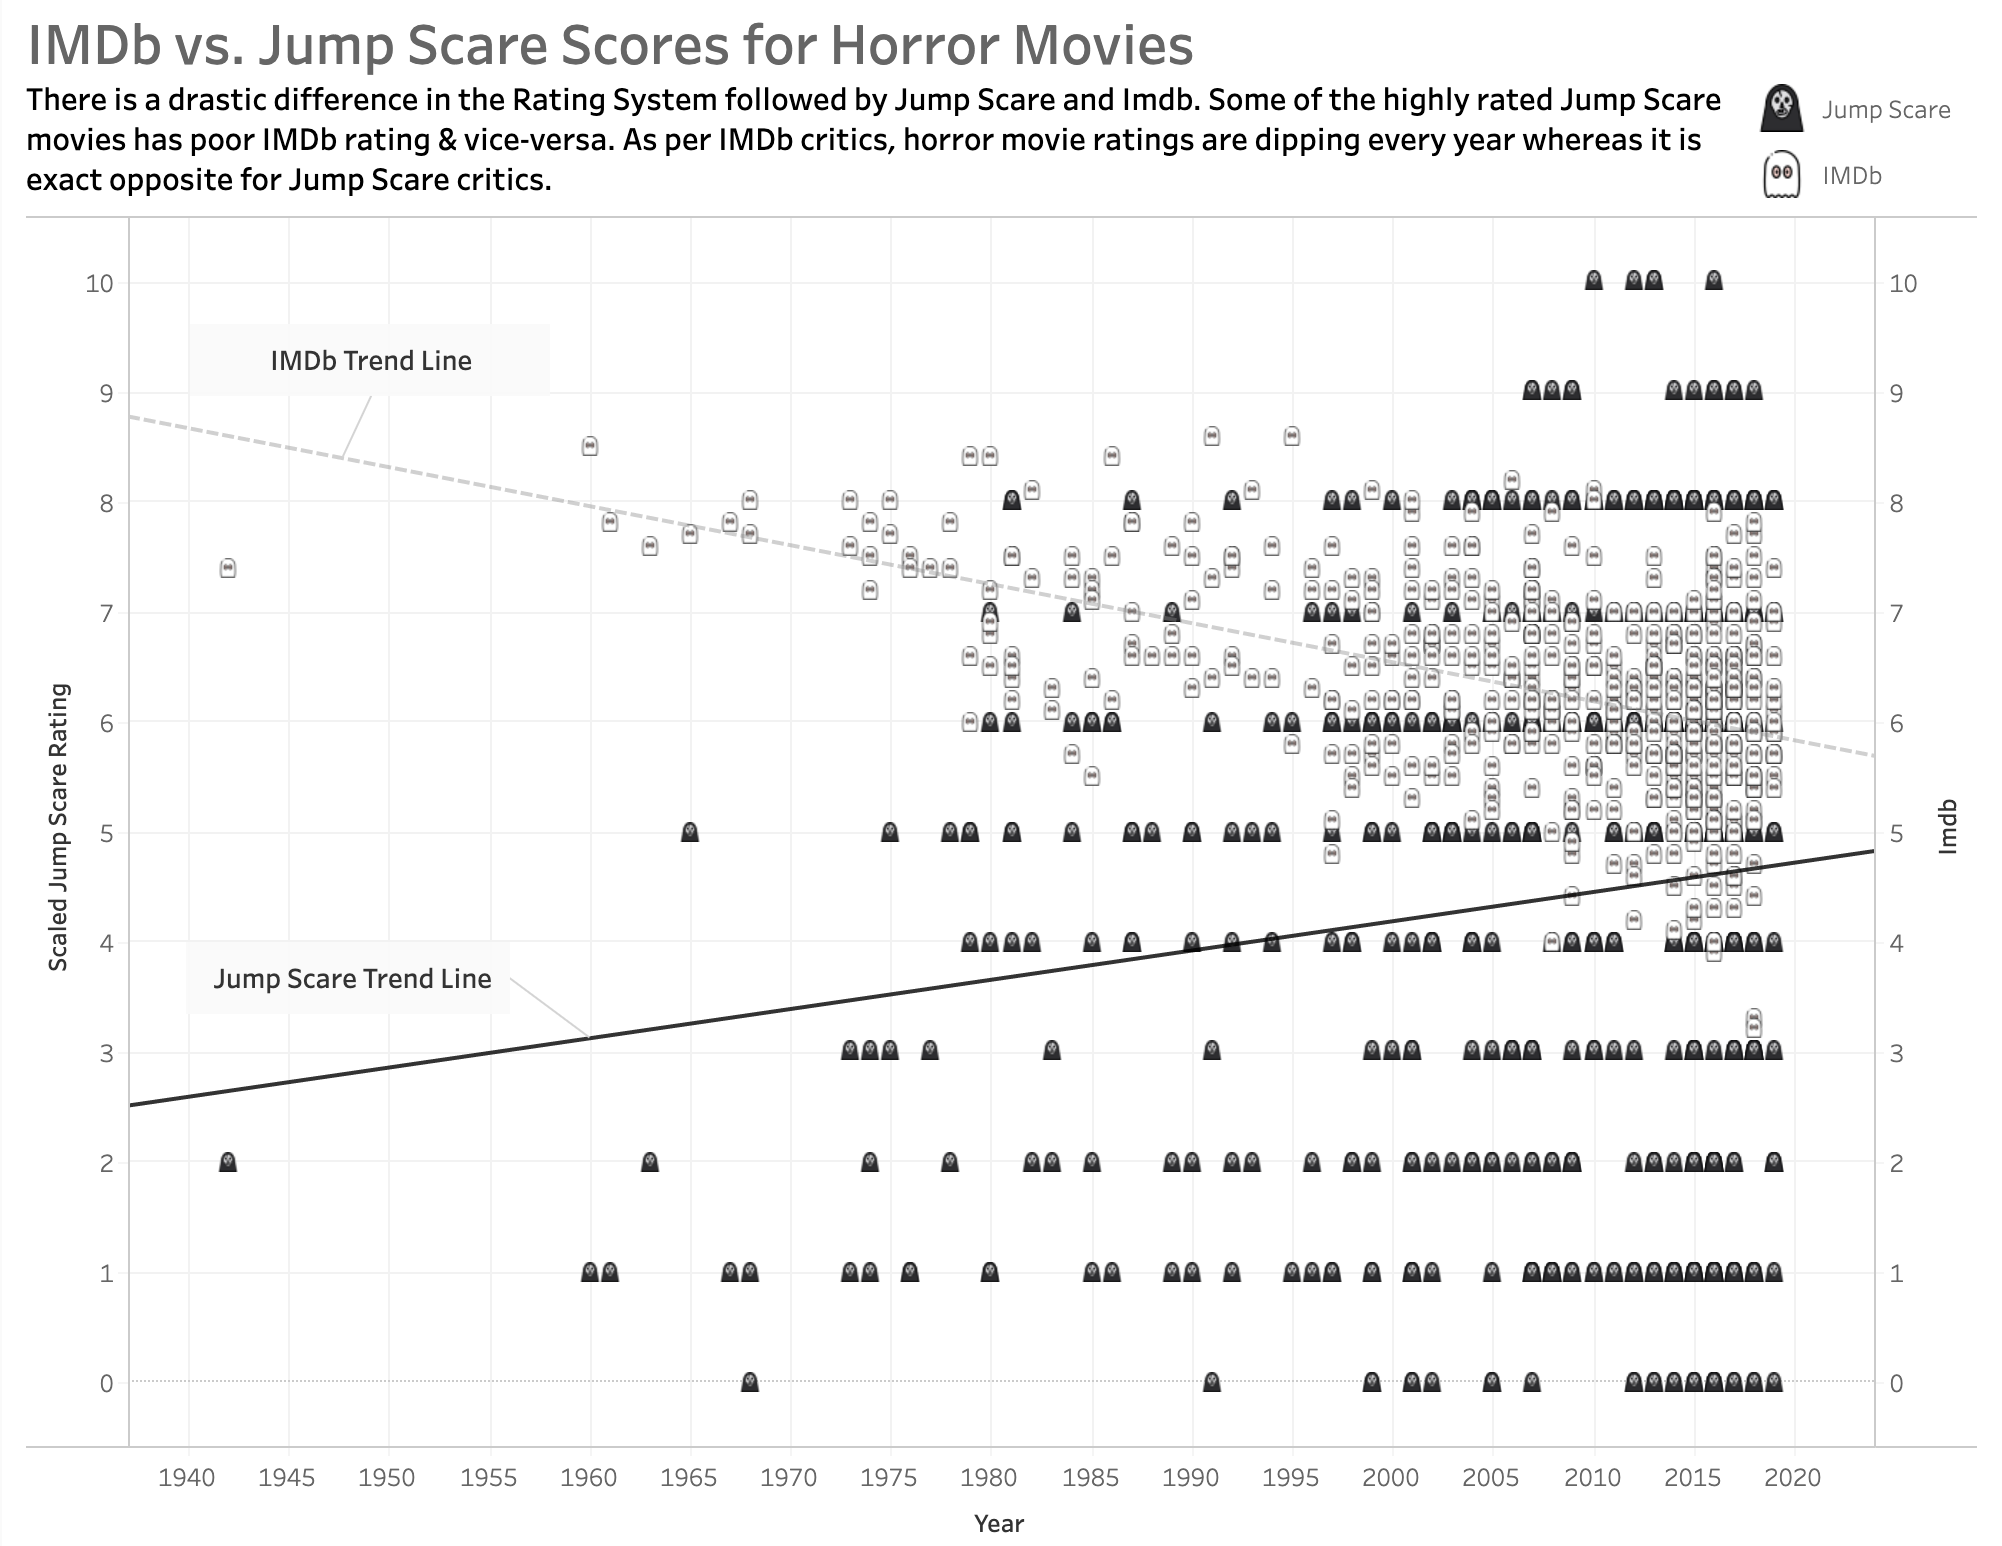

The page's visual inventory and layout, read from the dashboard file:
{"tool":"tableau","page":{"name":"Dashboard 1","canvas":[1000,800],"ordinal":0},"visuals":[{"type":"text","box":[8,8,866,107]},{"type":"blank","box":[874,8,118,41]},{"type":"image","param":"/Users/scarstruck/Documents/My Tableau Repository/Shapes/My/ghost copy.png","box":[874,49,32,32]},{"type":"text","box":[906,49,86,32]},{"type":"image","param":"/Users/scarstruck/Documents/My Tableau Repository/Shapes/My/ghost.png","box":[874,81,32,34]},{"type":"text","box":[906,81,86,34]},{"type":"worksheet","title":"Scatter Plot","mark":"Shape","rows":["Calculation_71072479552499714","Imdb"],"cols":["Year"],"box":[8,115,984,677]}]}

Visuals, with their boxes on the page's 1000x800 design canvas (x1, y1, x2, y2). These are canvas units, not pixel positions in the 2002x1546 screenshot, which may show the page scaled, cropped or inside an application window:
text: (left=8, top=8, right=874, bottom=115)
blank: (left=874, top=8, right=992, bottom=49)
image: (left=874, top=49, right=906, bottom=81)
text: (left=906, top=49, right=992, bottom=81)
image: (left=874, top=81, right=906, bottom=115)
text: (left=906, top=81, right=992, bottom=115)
"Scatter Plot" worksheet (Shape marks): (left=8, top=115, right=992, bottom=792)
